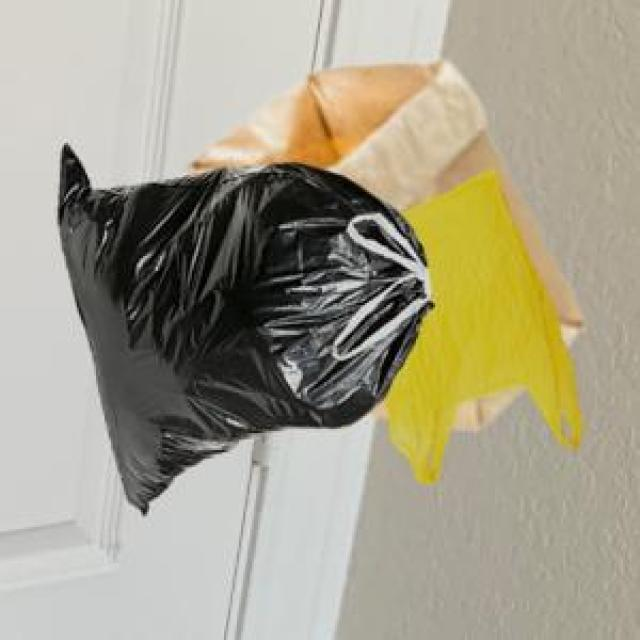miscellaneous trash: (56, 141, 429, 510)
paper: (184, 56, 578, 425)
